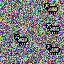sheep: (43, 2, 58, 15), (14, 34, 28, 45), (46, 23, 60, 34), (46, 44, 60, 55)
